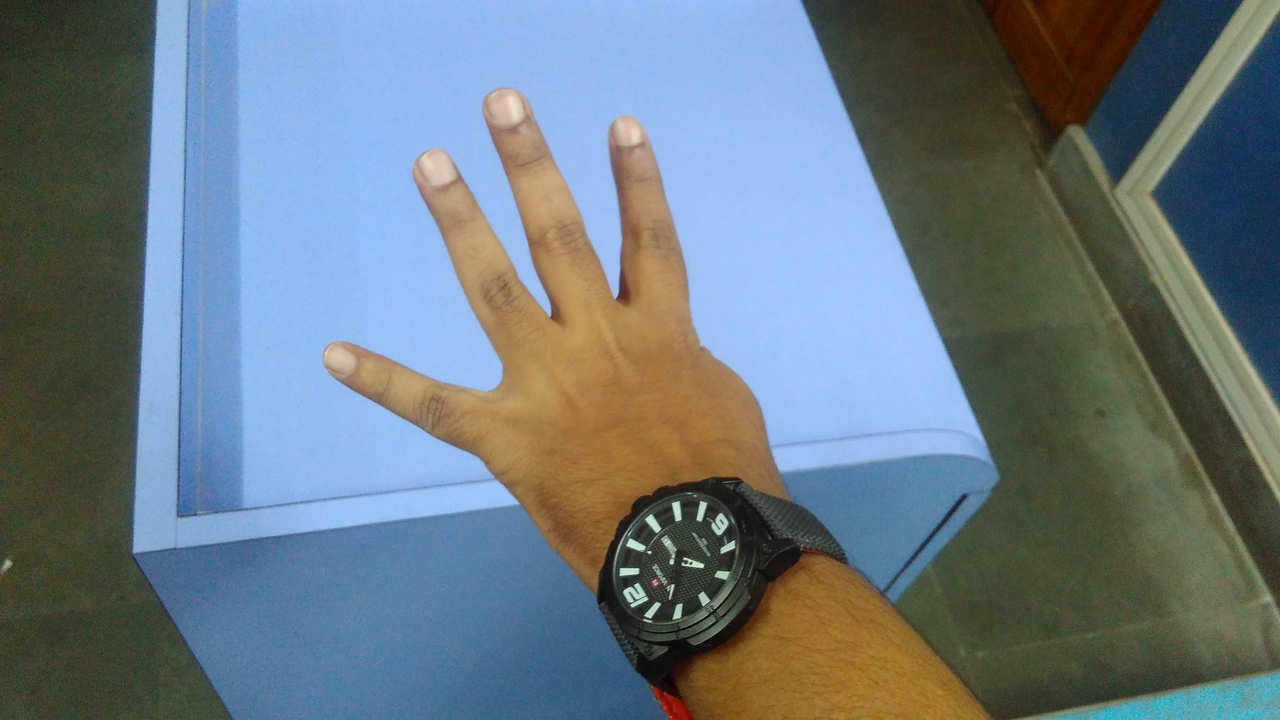fingertip: (400, 136, 468, 194), (304, 334, 374, 390), (474, 80, 542, 136), (596, 110, 666, 160)
